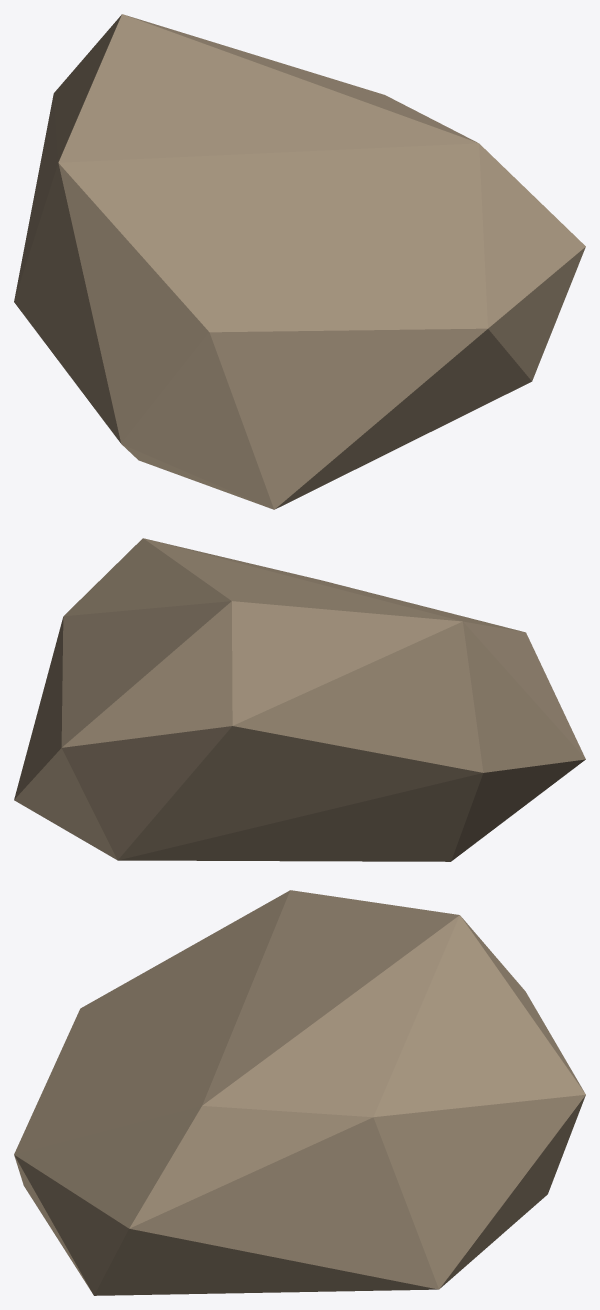
Rendered from Rock_001.fbx.
The picture shows the model from 3 angles, top to bottom: view 1: azimuth 30°, elevation 25°; view 2: azimuth 150°, elevation 25°; view 3: azimuth 270°, elevation 25°; orthographic projection. The views are drawn at different scales.
Parts seen in each view (by area): view 1: Rock.001; view 2: Rock.001; view 3: Rock.001.
Part boxes in pixels (left/top/right/bottom): Rock.001: left=14, top=14, right=585, bottom=509; Rock.001: left=14, top=538, right=585, bottom=861; Rock.001: left=14, top=890, right=585, bottom=1295.
Bounding box in the file's own units: 589 × 392 × 629.
